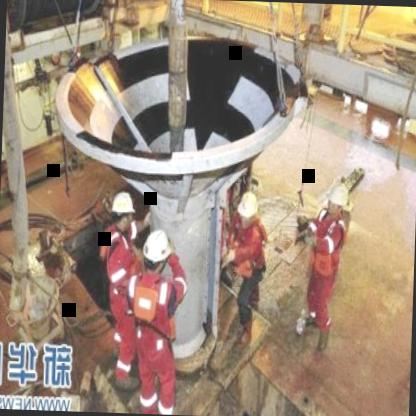helmet: (139, 228, 174, 280), (110, 191, 138, 234), (326, 180, 350, 218), (238, 189, 260, 229)
